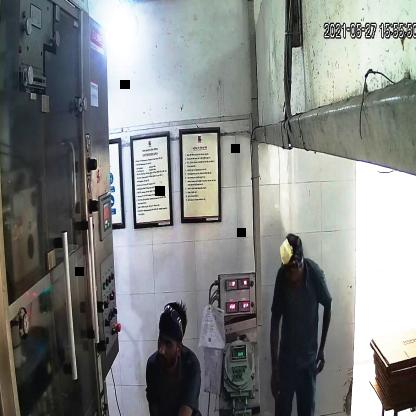no_goggles: (153, 330, 182, 352)
